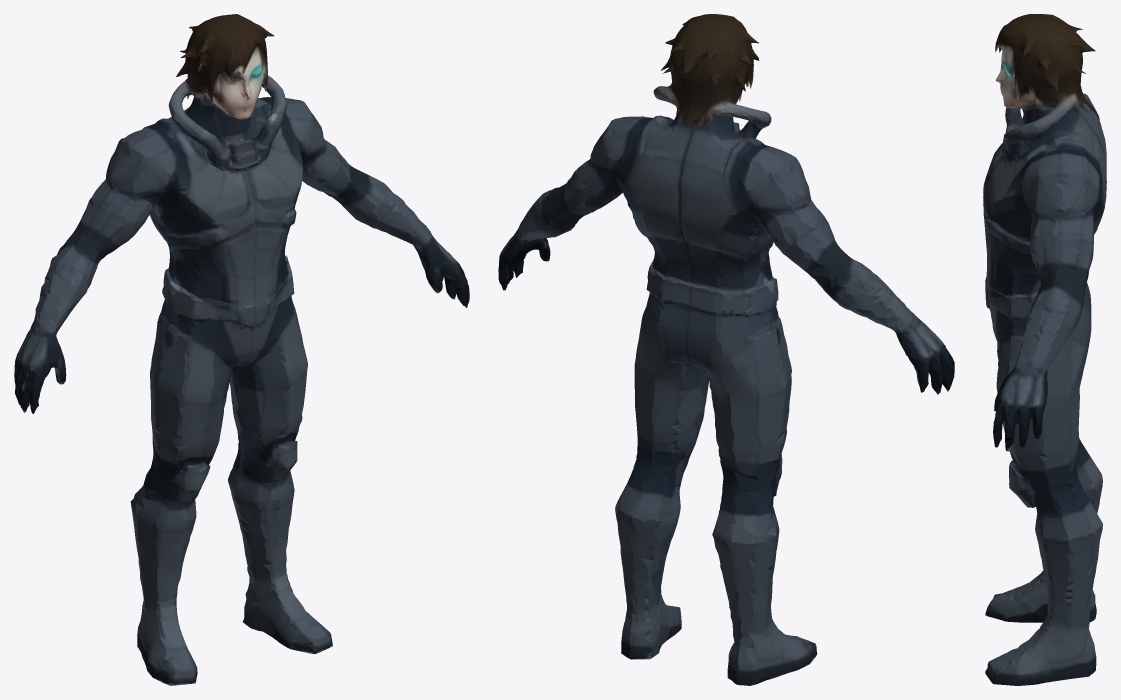
File: base_basic_pbr.glb
3 views of the same model, side by side, from view 1: azimuth 30°, elevation 25°; view 2: azimuth 150°, elevation 25°; view 3: azimuth 270°, elevation 25° (orthographic).
Visible parts, largest first — view 1: model; view 2: model; view 3: model.
Boxes of the visible parts, x1=… form: model: x1=14, y1=14, x2=469, y2=685; model: x1=498, y1=14, x2=954, y2=685; model: x1=983, y1=14, x2=1106, y2=685.
Bounding box in the file's own units: 1.41 × 1.9 × 0.3406.
Materials: 1 (1 with a texture image).
